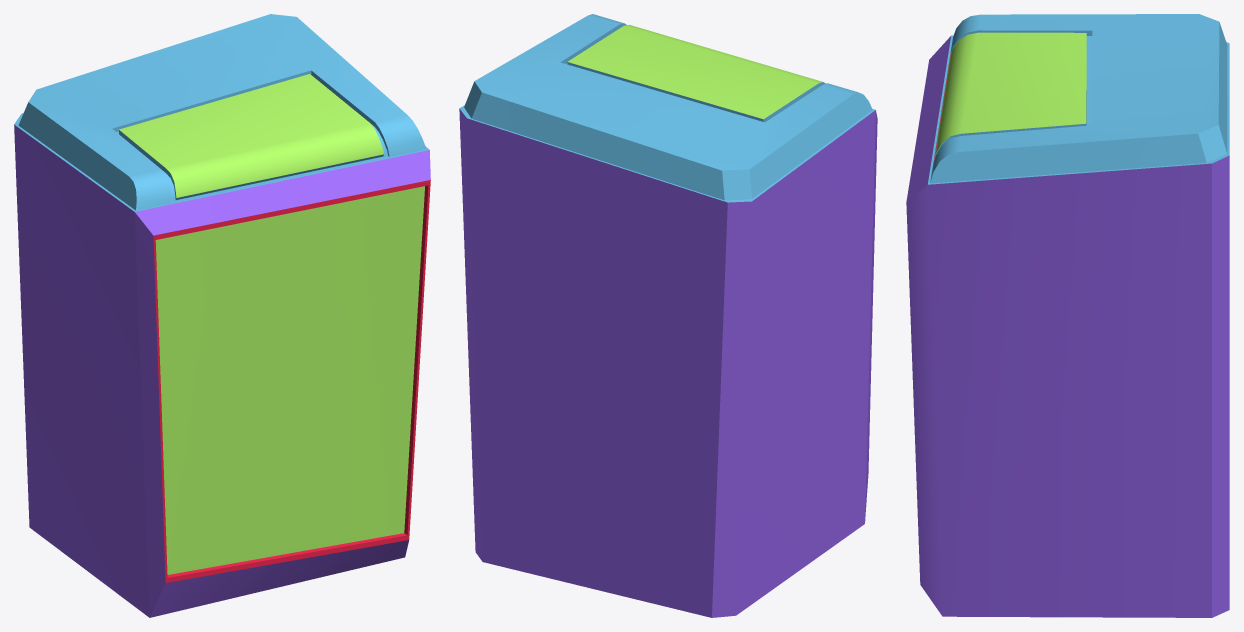
The model's file is Kitchen_TrashCan.fbx.
The picture shows the model from 3 angles, left to right: view 1: azimuth 30°, elevation 25°; view 2: azimuth 150°, elevation 25°; view 3: azimuth 270°, elevation 25°; orthographic projection. The views are drawn at different scales.
Visible parts, largest first — view 1: TrashCan; view 2: TrashCan; view 3: TrashCan.
Part boxes in pixels (x1,y1,x2,y2): TrashCan: (14,14,430,617); TrashCan: (459,14,877,617); TrashCan: (906,14,1229,617).
Size of the model in its own units: 57.77 by 87.63 by 52.57.
1 material, 1 textured.
